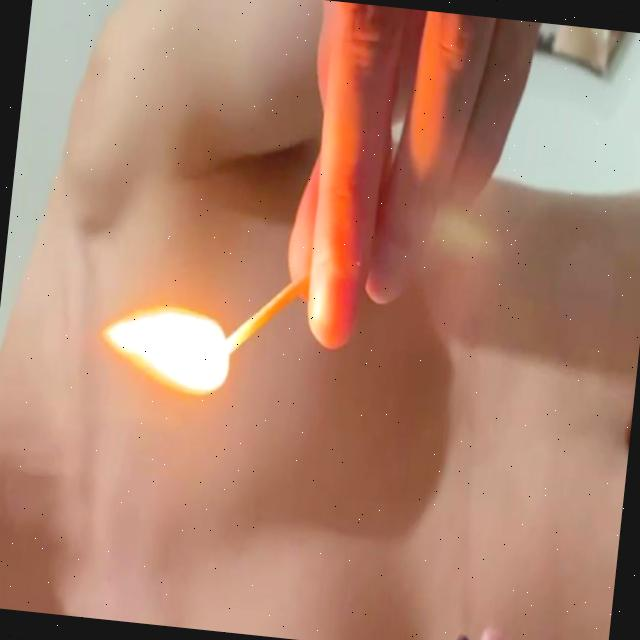fire: (89, 293, 241, 404)
